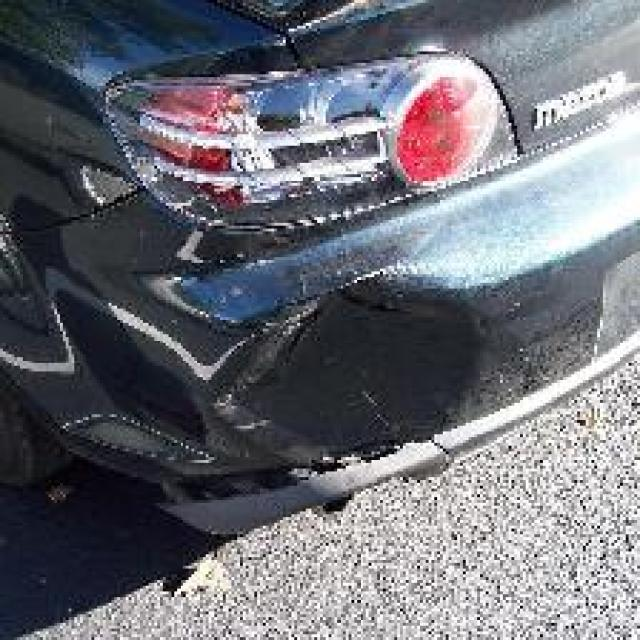bumper_dent_severe: (180, 197, 483, 463)
